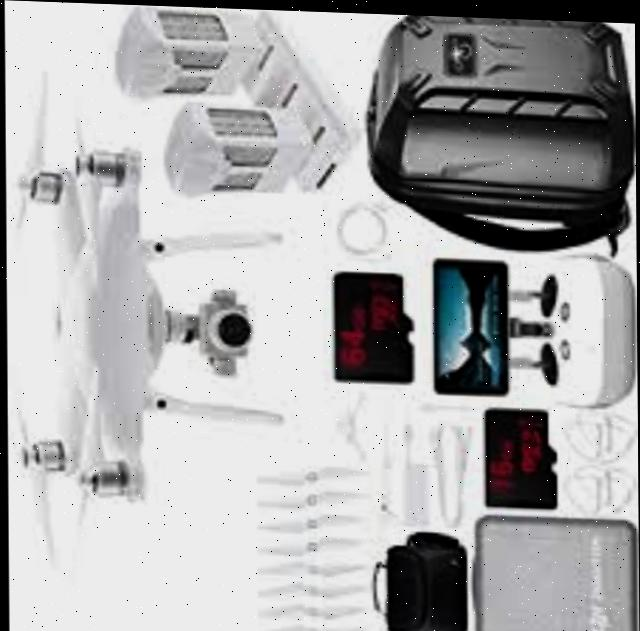drone: (20, 104, 297, 585)
